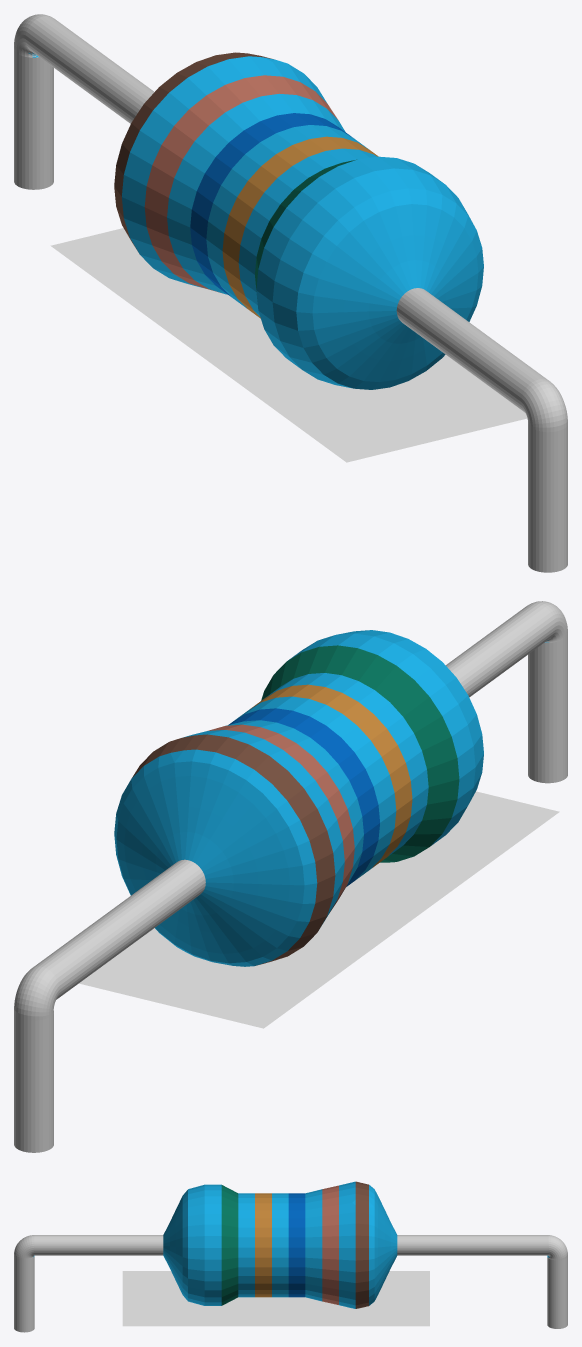
File: R1_blue_1.gltf
The picture shows the model from 3 angles, top to bottom: view 1: azimuth 30°, elevation 25°; view 2: azimuth 150°, elevation 25°; view 3: azimuth 270°, elevation 25°; orthographic projection. The views are drawn at different scales.
Parts seen in each view (by area): view 1: R1_blue_1, R1_blue_1_plane; view 2: R1_blue_1, R1_blue_1_plane; view 3: R1_blue_1, R1_blue_1_plane.
Part boxes in pixels (<box>): R1_blue_1: <box>14,14,567,572</box>; R1_blue_1_plane: <box>50,228,527,462</box>; R1_blue_1: <box>14,601,567,1152</box>; R1_blue_1_plane: <box>79,791,559,1028</box>; R1_blue_1: <box>14,1181,567,1332</box>; R1_blue_1_plane: <box>122,1271,429,1326</box>.
Bounding box in the file's own units: 0.0161 × 0.0189 × 0.0676.
